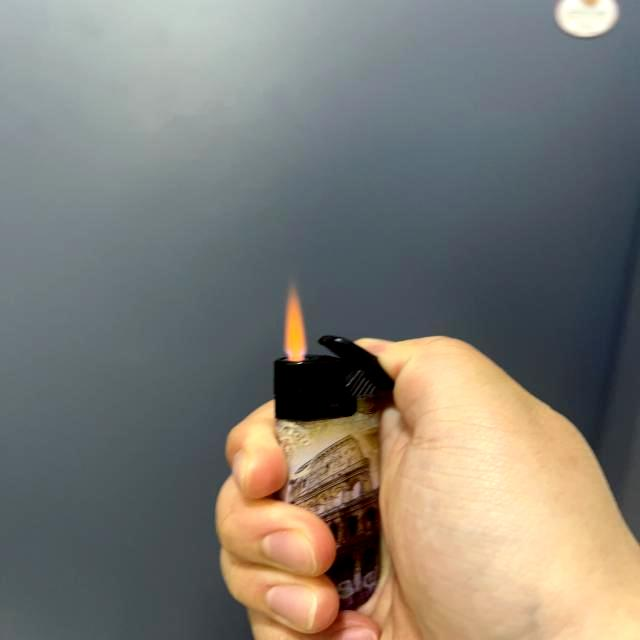fire: (280, 276, 310, 362)
